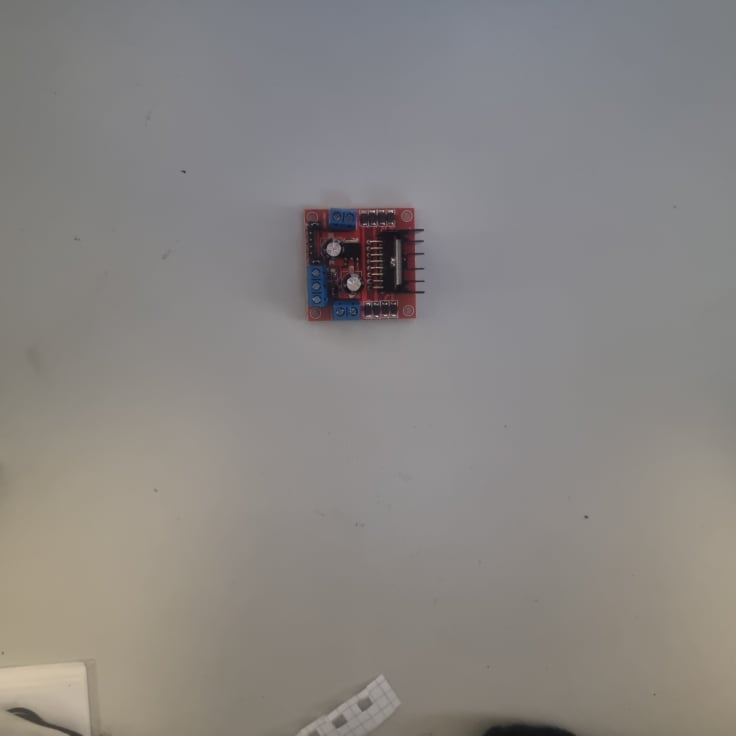MOTOR: (305, 206, 425, 327)
